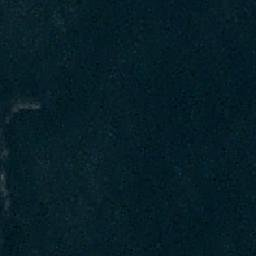debris: (1, 102, 40, 123), (1, 147, 12, 210)
